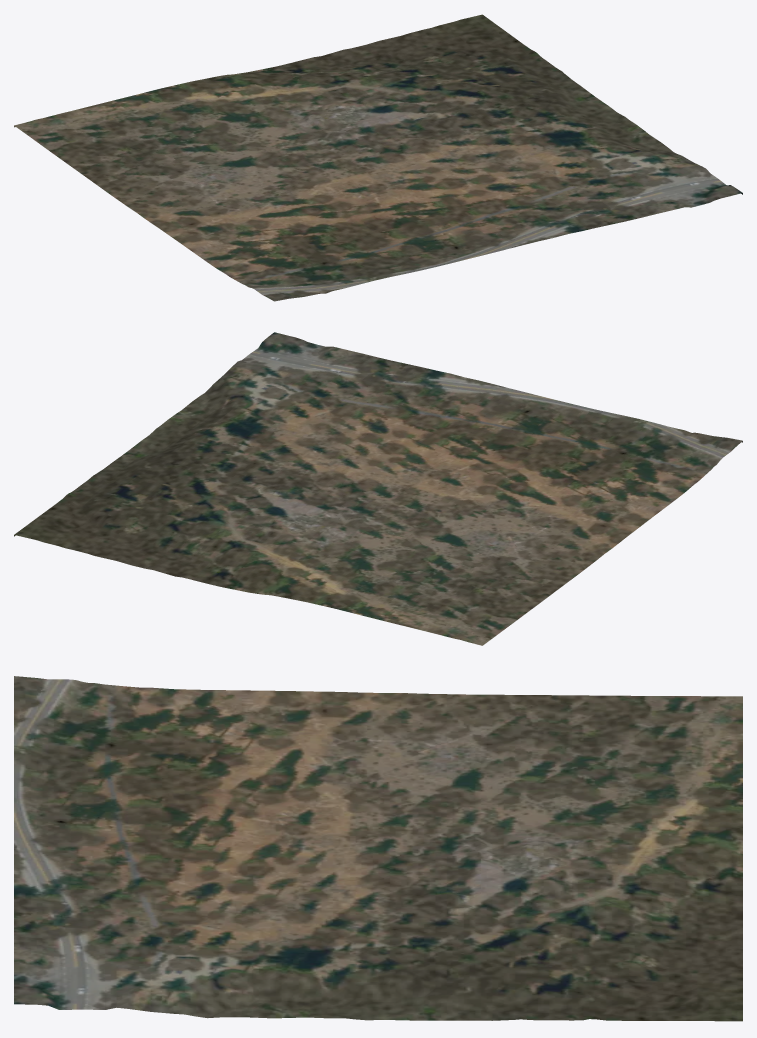
3 renders of one model, top to bottom at view 1: azimuth 30°, elevation 25°; view 2: azimuth 150°, elevation 25°; view 3: azimuth 270°, elevation 25°, orthographic. The views are drawn at different scales.
Size of the model in its own units: 250 by 11.33 by 241.
1 material, 1 textured.
